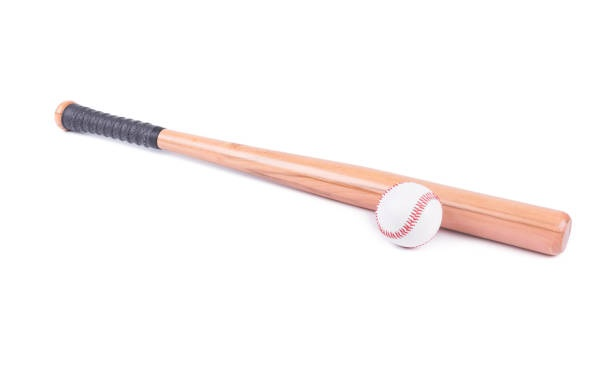bita: (53, 98, 571, 254)
